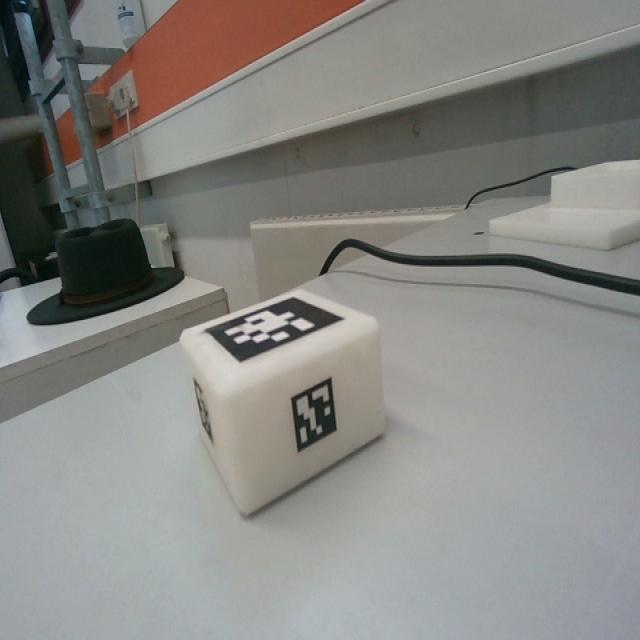Cube: (180, 282, 382, 518)
